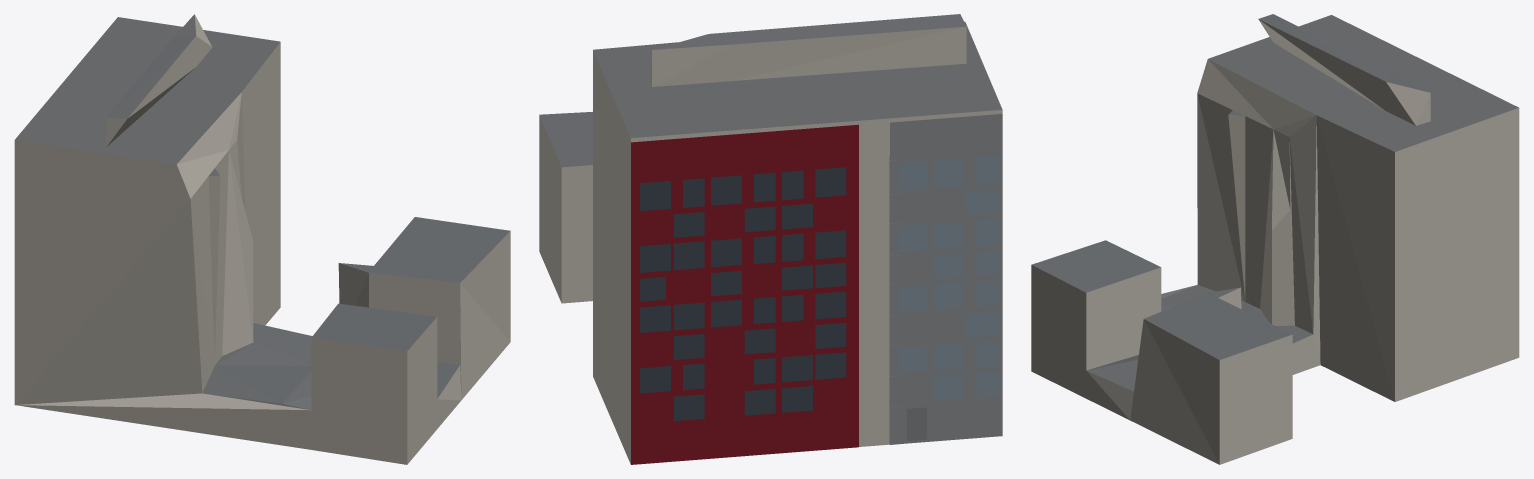
File: haparandaweg-952-1002.lod2.glb
3 views of the same model, side by side, from view 1: azimuth 30°, elevation 25°; view 2: azimuth 150°, elevation 25°; view 3: azimuth 270°, elevation 25° (orthographic). The views are drawn at different scales.
Visible parts, largest first — view 1: lod2; view 2: lod2; view 3: lod2.
Boxes of the visible parts, x1,y1,x2,y2 form: lod2: [14, 14, 510, 464]; lod2: [539, 14, 1002, 464]; lod2: [1031, 14, 1519, 464].
Size of the model in its own units: 49.53 by 32.17 by 50.94.
